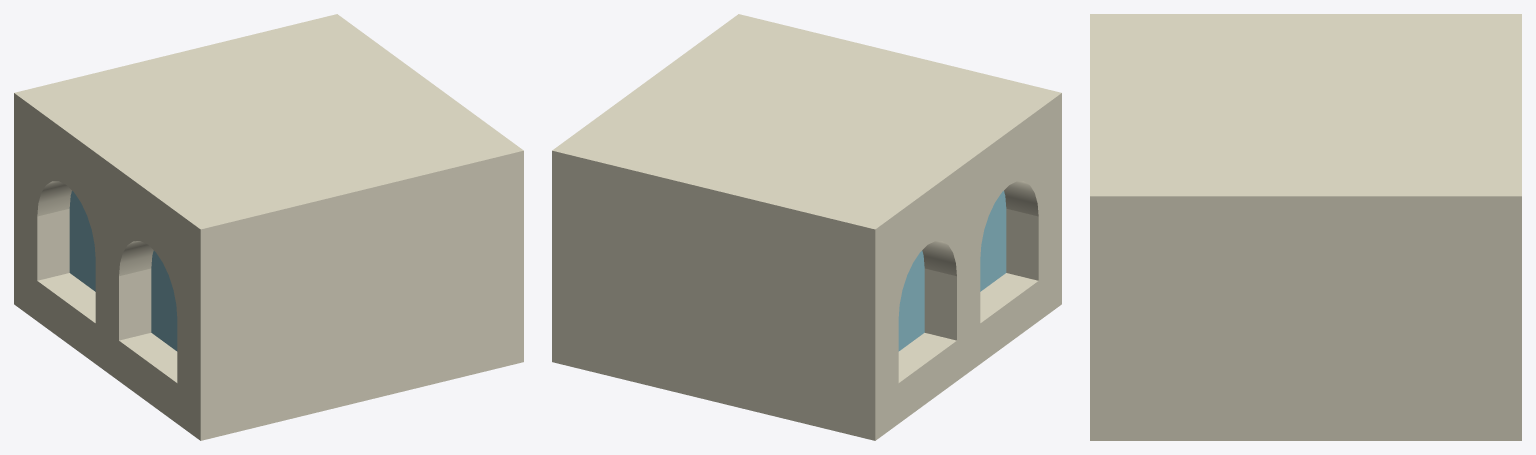
Rendered from modularBuildings_029.fbx.
The picture shows the model from 3 angles, left to right: view 1: azimuth 30°, elevation 25°; view 2: azimuth 150°, elevation 25°; view 3: azimuth 270°, elevation 25°; orthographic projection. The views are drawn at different scales.
Parts seen in each view (by area): view 1: Mesh1_Group1 Model; view 2: Mesh1_Group1 Model; view 3: Mesh1_Group1 Model.
Boxes of the visible parts, box(x1,y1,x2,y2) form: Mesh1_Group1 Model: box(14, 14, 523, 440); Mesh1_Group1 Model: box(552, 14, 1061, 440); Mesh1_Group1 Model: box(1090, 14, 1521, 440).
Bounding box in the file's own units: 1 × 0.625 × 1.
